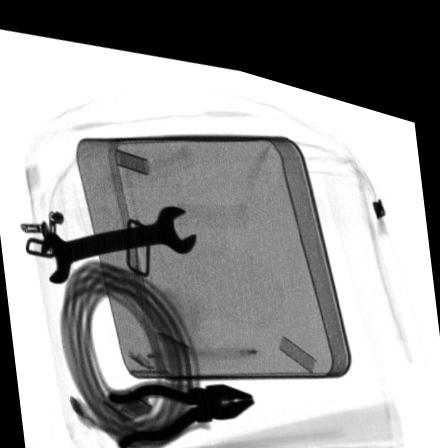Pliers: (102, 367, 255, 446)
Wrench: (39, 195, 195, 280)
